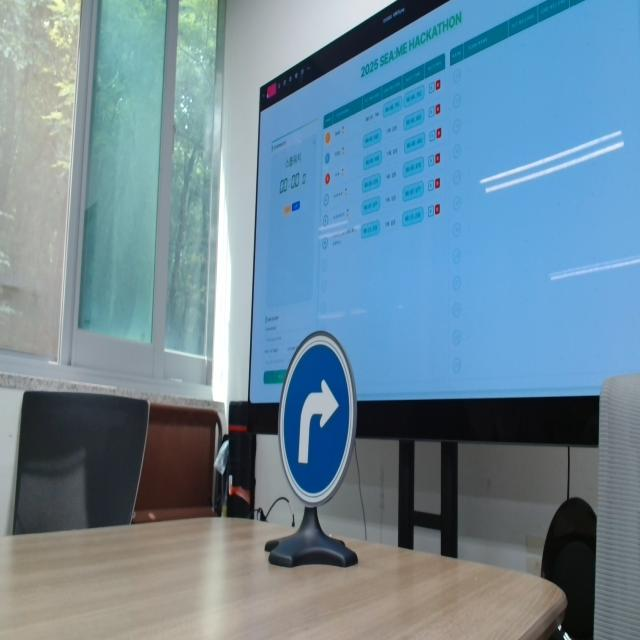right_dierection: (269, 323, 360, 508)
